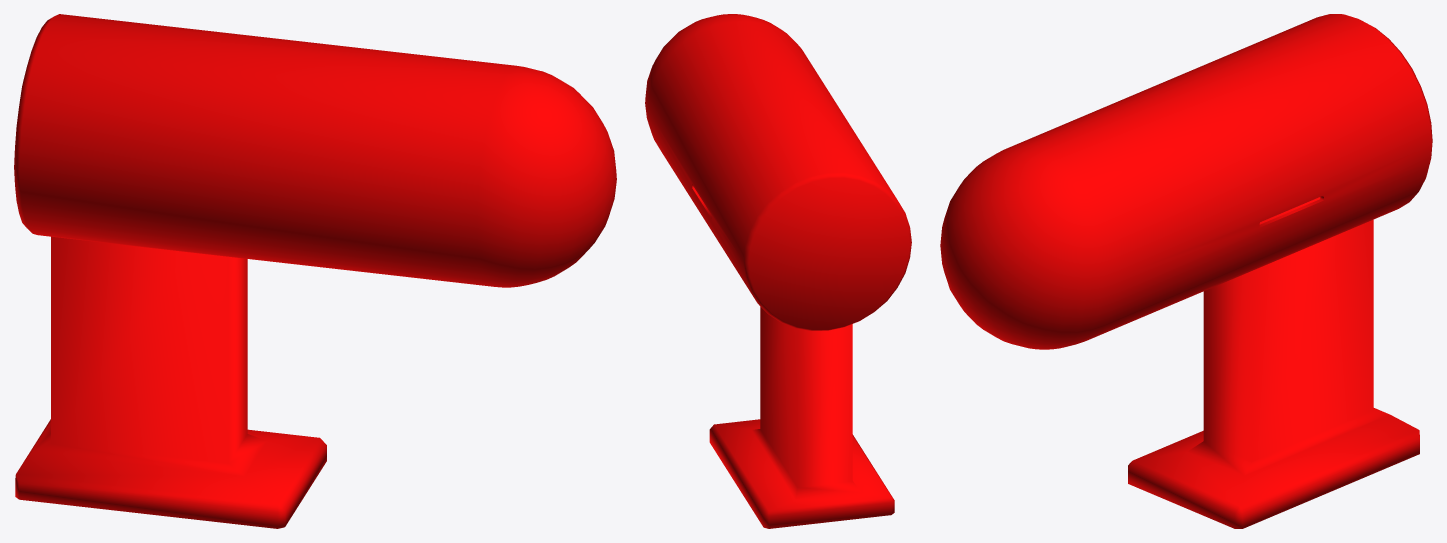
The model's file is kitchen-shinyredmetal.obj.
The picture shows the model from 3 angles, left to right: view 1: azimuth 30°, elevation 25°; view 2: azimuth 150°, elevation 25°; view 3: azimuth 270°, elevation 25°; orthographic projection. The views are drawn at different scales.
Parts seen in each view (by area): view 1: Sphere; view 2: Sphere; view 3: Sphere.
Part boxes in pixels (x1=…): Sphere: x1=14, y1=14, x2=616, y2=528; Sphere: x1=645, y1=14, x2=911, y2=528; Sphere: x1=940, y1=14, x2=1432, y2=528.
Size of the model in its own units: 1.12 by 1.04 by 1.12.
1 material, 1 textured.
